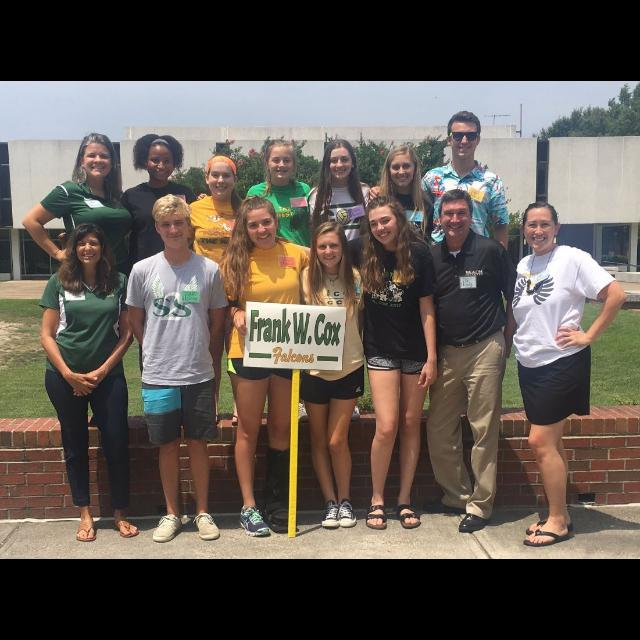head: (522, 200, 562, 252), (366, 194, 404, 246), (241, 198, 277, 250), (445, 111, 483, 160), (154, 201, 192, 249), (440, 190, 474, 242), (313, 220, 347, 268), (79, 136, 115, 180), (72, 223, 106, 267), (205, 154, 239, 198), (144, 136, 176, 182), (387, 146, 419, 190), (264, 140, 298, 180), (326, 140, 356, 182)
person: (262, 193, 440, 539), (51, 130, 207, 432), (366, 108, 514, 418), (508, 200, 632, 550), (409, 188, 525, 536), (120, 193, 230, 549), (216, 193, 324, 542), (19, 130, 139, 434), (195, 138, 319, 426), (36, 221, 144, 547), (294, 218, 374, 536), (179, 150, 269, 428), (298, 137, 376, 425), (362, 143, 438, 420)
